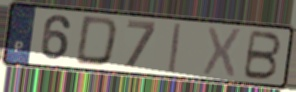6: (40, 13, 73, 63)
7: (122, 18, 160, 71)
B: (240, 28, 284, 82)
D: (73, 15, 121, 69)
I: (167, 21, 183, 75)
X: (201, 24, 244, 80)
